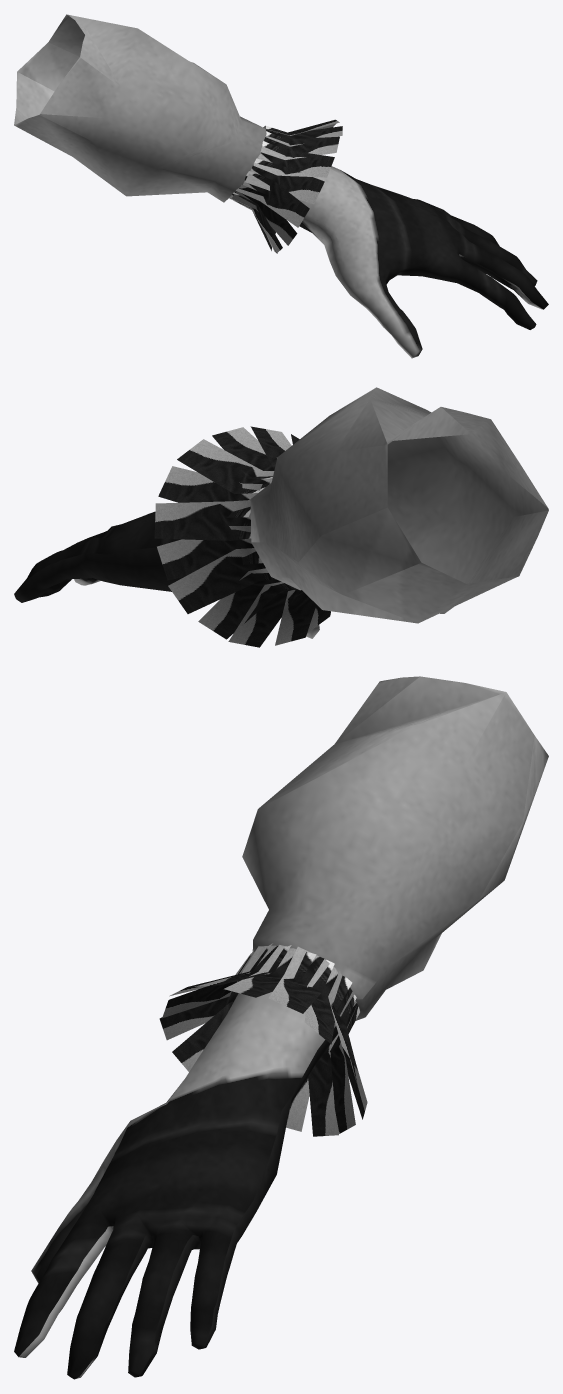
Rendered from Rarm2.obj.
The picture shows the model from 3 angles, top to bottom: view 1: azimuth 30°, elevation 25°; view 2: azimuth 150°, elevation 25°; view 3: azimuth 270°, elevation 25°; orthographic projection. The views are drawn at different scales.
Parts seen in each view (by area): view 1: Nier2b:Cube polySurface46 polySurface5, Nier2b:Cube polySurface15, polySurface18 Nier2b:Cube, Nier2b:Cube polySurface21, Nier2b:Cube polySurface25, Nier2b:Cube polySurface20, Nier2b:Cube polySurface19, Nier2b:Cube polySurface16; view 2: Nier2b:Cube polySurface46 polySurface5, Nier2b:Cube polySurface24, Nier2b:Cube polySurface26, Nier2b:Cube polySurface27, Nier2b:Cube polySurface17, Nier2b:Cube polySurface13, Nier2b:Cube polySurface14, Nier2b:Cube polySurface23, Nier2b:Cube polySurface12, Nier2b:Cube polySurface19, Nier2b:Cube polySurface25; view 3: Nier2b:Cube polySurface46 polySurface5, Nier2b:Cube polySurface27, Nier2b:Cube polySurface23, Nier2b:Cube polySurface14, Nier2b:Cube polySurface19, Nier2b:Cube polySurface13, polySurface18 Nier2b:Cube, Nier2b:Cube polySurface20, Nier2b:Cube polySurface21, Nier2b:Cube polySurface24, Nier2b:Cube polySurface25.
Part boxes in pixels (left/top/right/bottom): Nier2b:Cube polySurface46 polySurface5: left=14, top=14, right=548, bottom=358; Nier2b:Cube polySurface15: left=253, top=141, right=334, bottom=177; polySurface18 Nier2b:Cube: left=236, top=171, right=309, bottom=227; Nier2b:Cube polySurface21: left=245, top=158, right=324, bottom=204; Nier2b:Cube polySurface25: left=260, top=131, right=339, bottom=159; Nier2b:Cube polySurface20: left=232, top=184, right=297, bottom=245; Nier2b:Cube polySurface19: left=266, top=126, right=342, bottom=146; Nier2b:Cube polySurface16: left=229, top=192, right=282, bottom=252; Nier2b:Cube polySurface46 polySurface5: left=14, top=387, right=548, bottom=638; Nier2b:Cube polySurface24: left=154, top=500, right=250, bottom=540; Nier2b:Cube polySurface26: left=168, top=548, right=275, bottom=613; Nier2b:Cube polySurface27: left=177, top=439, right=274, bottom=494; Nier2b:Cube polySurface17: left=157, top=526, right=262, bottom=580; Nier2b:Cube polySurface13: left=198, top=568, right=294, bottom=639; Nier2b:Cube polySurface14: left=158, top=466, right=262, bottom=517; Nier2b:Cube polySurface23: left=228, top=582, right=302, bottom=647; Nier2b:Cube polySurface12: left=275, top=590, right=316, bottom=645; Nier2b:Cube polySurface19: left=212, top=427, right=274, bottom=478; Nier2b:Cube polySurface25: left=250, top=426, right=291, bottom=469; Nier2b:Cube polySurface46 polySurface5: left=14, top=676, right=548, bottom=1379; Nier2b:Cube polySurface27: left=268, top=946, right=334, bottom=1013; Nier2b:Cube polySurface23: left=308, top=1034, right=338, bottom=1136; Nier2b:Cube polySurface14: left=304, top=959, right=352, bottom=1044; Nier2b:Cube polySurface19: left=224, top=945, right=316, bottom=997; Nier2b:Cube polySurface13: left=330, top=1024, right=355, bottom=1133; polySurface18 Nier2b:Cube: left=159, top=980, right=241, bottom=1040; Nier2b:Cube polySurface20: left=172, top=1001, right=233, bottom=1071; Nier2b:Cube polySurface21: left=162, top=950, right=253, bottom=1018; Nier2b:Cube polySurface24: left=328, top=971, right=357, bottom=1070; Nier2b:Cube polySurface25: left=194, top=945, right=291, bottom=986.
Size of the model in its own units: 6.79 by 4.48 by 4.79.
